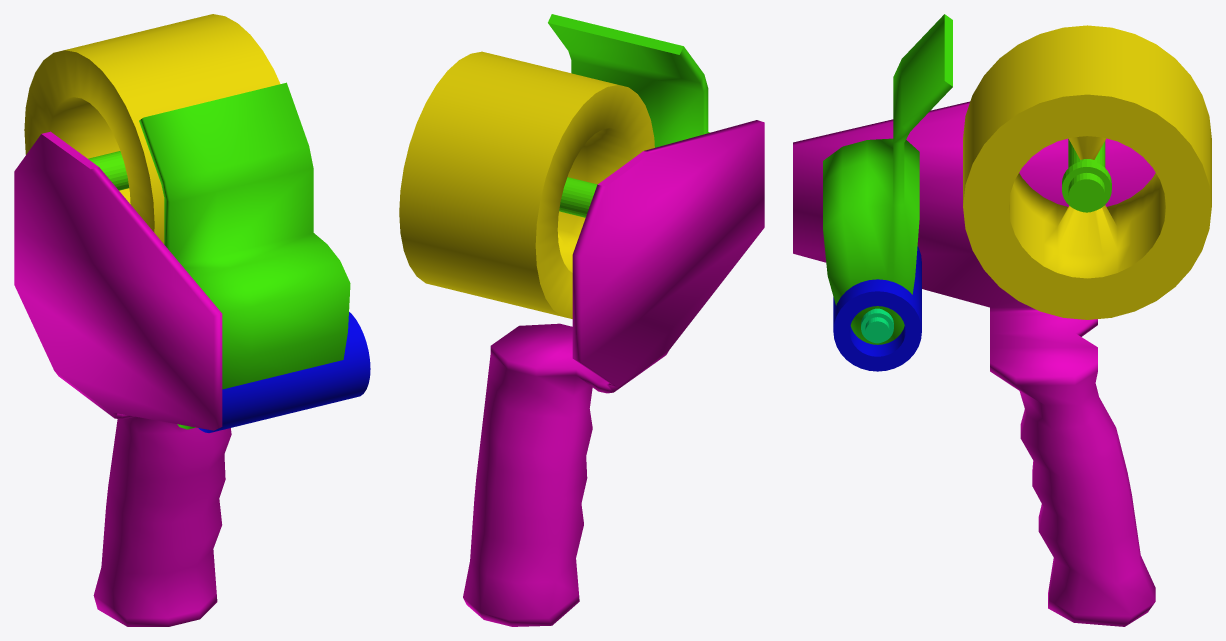
The model's file is gun.fbx.
3 renders of one model, left to right at view 1: azimuth 30°, elevation 25°; view 2: azimuth 150°, elevation 25°; view 3: azimuth 270°, elevation 25°, orthographic. The views are drawn at different scales.
Visible parts, largest first — view 1: Cube, Cube.001, Cylinder, Cylinder.004, Cylinder.003; view 2: Cube, Cylinder, Cube.001, Cylinder.003; view 3: Cylinder, Cube, Cube.001, Cylinder.004, Cylinder.003, Cylinder.006.
Boxes of the visible parts, x1,y1,x2,y2 form: Cube: [14, 131, 231, 626]; Cube.001: [139, 82, 350, 429]; Cylinder: [24, 14, 280, 243]; Cylinder.004: [198, 312, 370, 432]; Cylinder.003: [88, 151, 129, 190]; Cube: [463, 120, 764, 626]; Cylinder: [399, 51, 654, 318]; Cube.001: [548, 14, 709, 147]; Cylinder.003: [559, 177, 597, 217]; Cylinder: [963, 25, 1211, 319]; Cube: [793, 101, 1155, 626]; Cube.001: [823, 14, 952, 344]; Cylinder.004: [833, 246, 921, 371]; Cylinder.003: [1062, 139, 1111, 212]; Cylinder.006: [861, 308, 893, 343].
Bounding box in the file's own units: 149 × 453 × 314.
